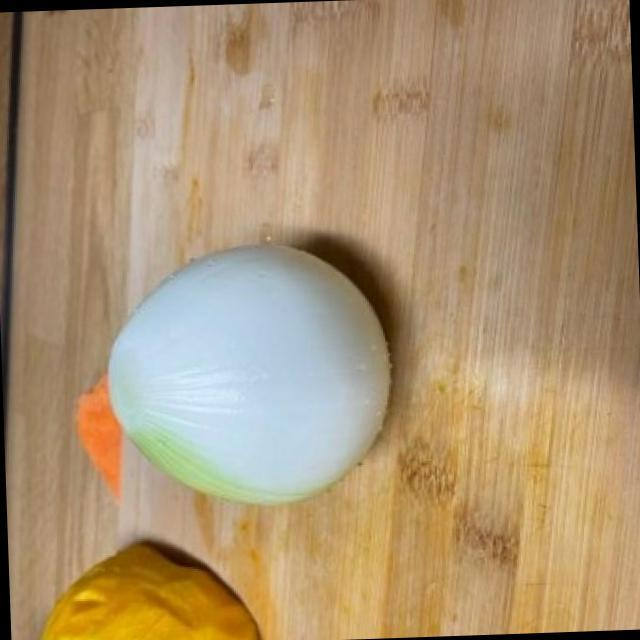Onion: (110, 245, 391, 507)
